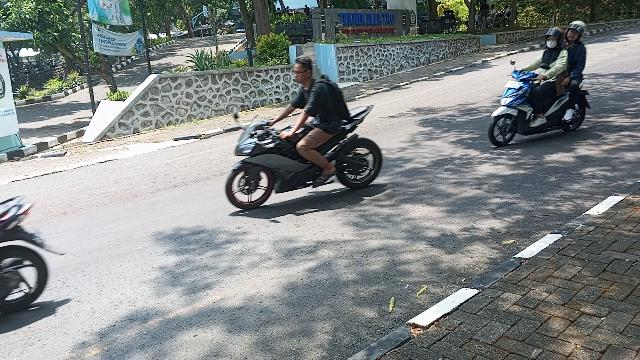helm: (568, 21, 589, 45), (545, 28, 566, 51)
motor: (225, 111, 386, 212), (488, 60, 592, 148)
non-helm: (292, 57, 314, 86)
